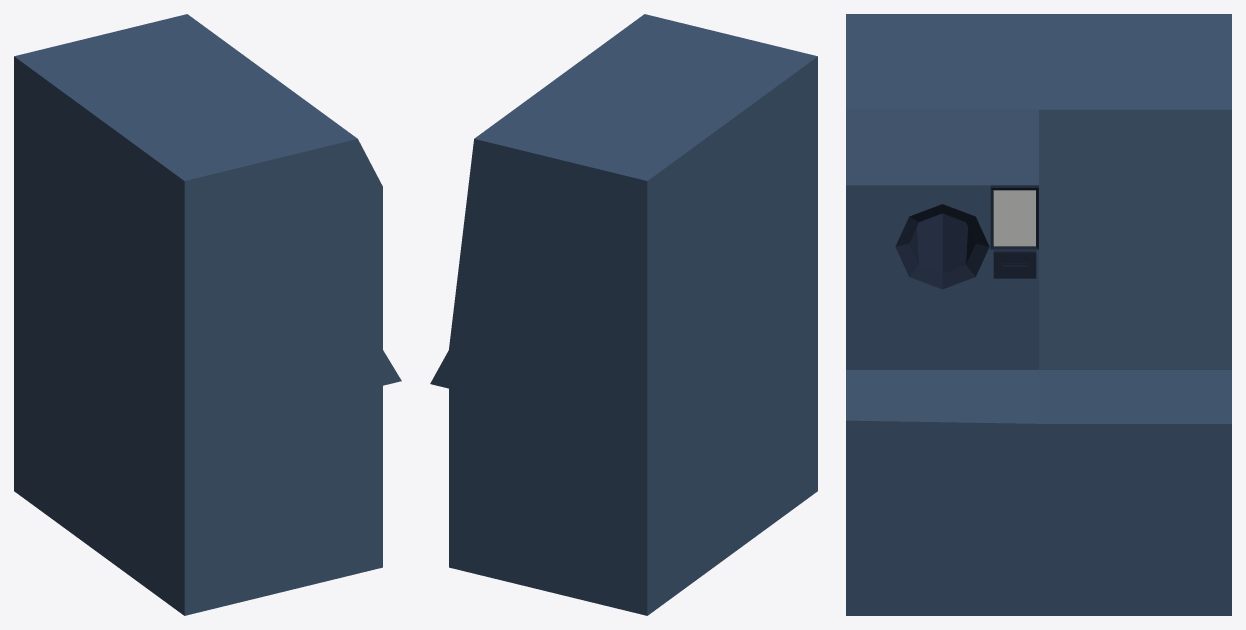
Rendered from pfunder.fbx.
3 views of the same model, side by side, from view 1: azimuth 30°, elevation 25°; view 2: azimuth 150°, elevation 25°; view 3: azimuth 270°, elevation 25° (orthographic). The views are drawn at different scales.
Parts seen in each view (by area): view 1: Pfand; view 2: Pfand; view 3: Pfand.
Boxes of the visible parts, left/top/right/bottom form: Pfand: left=14, top=14, right=401, bottom=615; Pfand: left=430, top=14, right=817, bottom=615; Pfand: left=846, top=14, right=1231, bottom=615.
Size of the model in its own units: 429 by 821 by 583.
